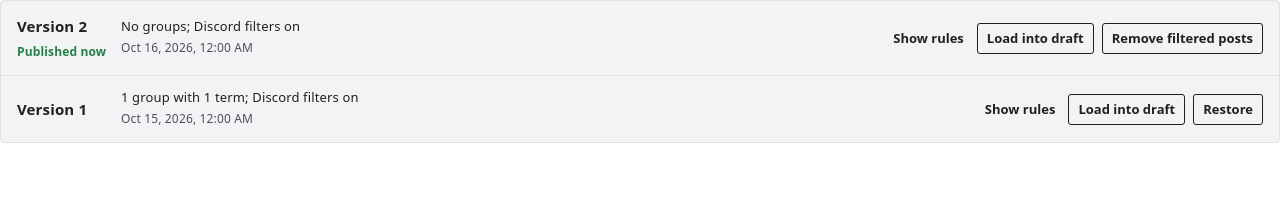
Scenario: Versions on a larger screen › keeps the buttons on each version
This screenshot has width=1280, height=215.
Expected: the number of buttons "Load into draft" is 2, [977,23,1094,54]; [1068,94,1185,125]
Expected: the button "Restore" is enabled, [1193,94,1263,125]
Click the button "Show rules" in the row of "1 group with 1 term; Discord filters on": (1020, 109) [980,94,1060,125]
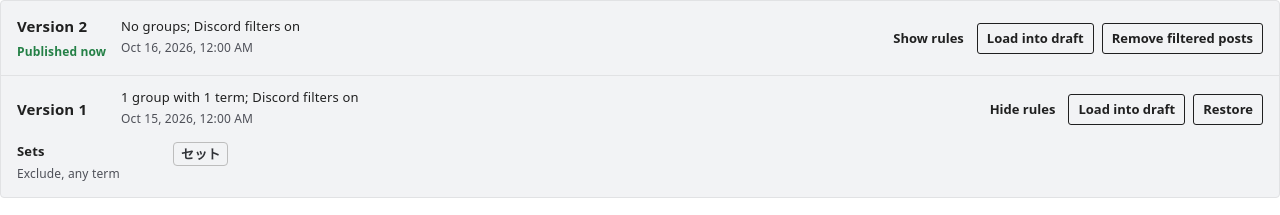
Result: the button "Hide rules" is expanded at [985,94,1060,125]
Result: the text "Sets" is shown at [17,142,45,160]
